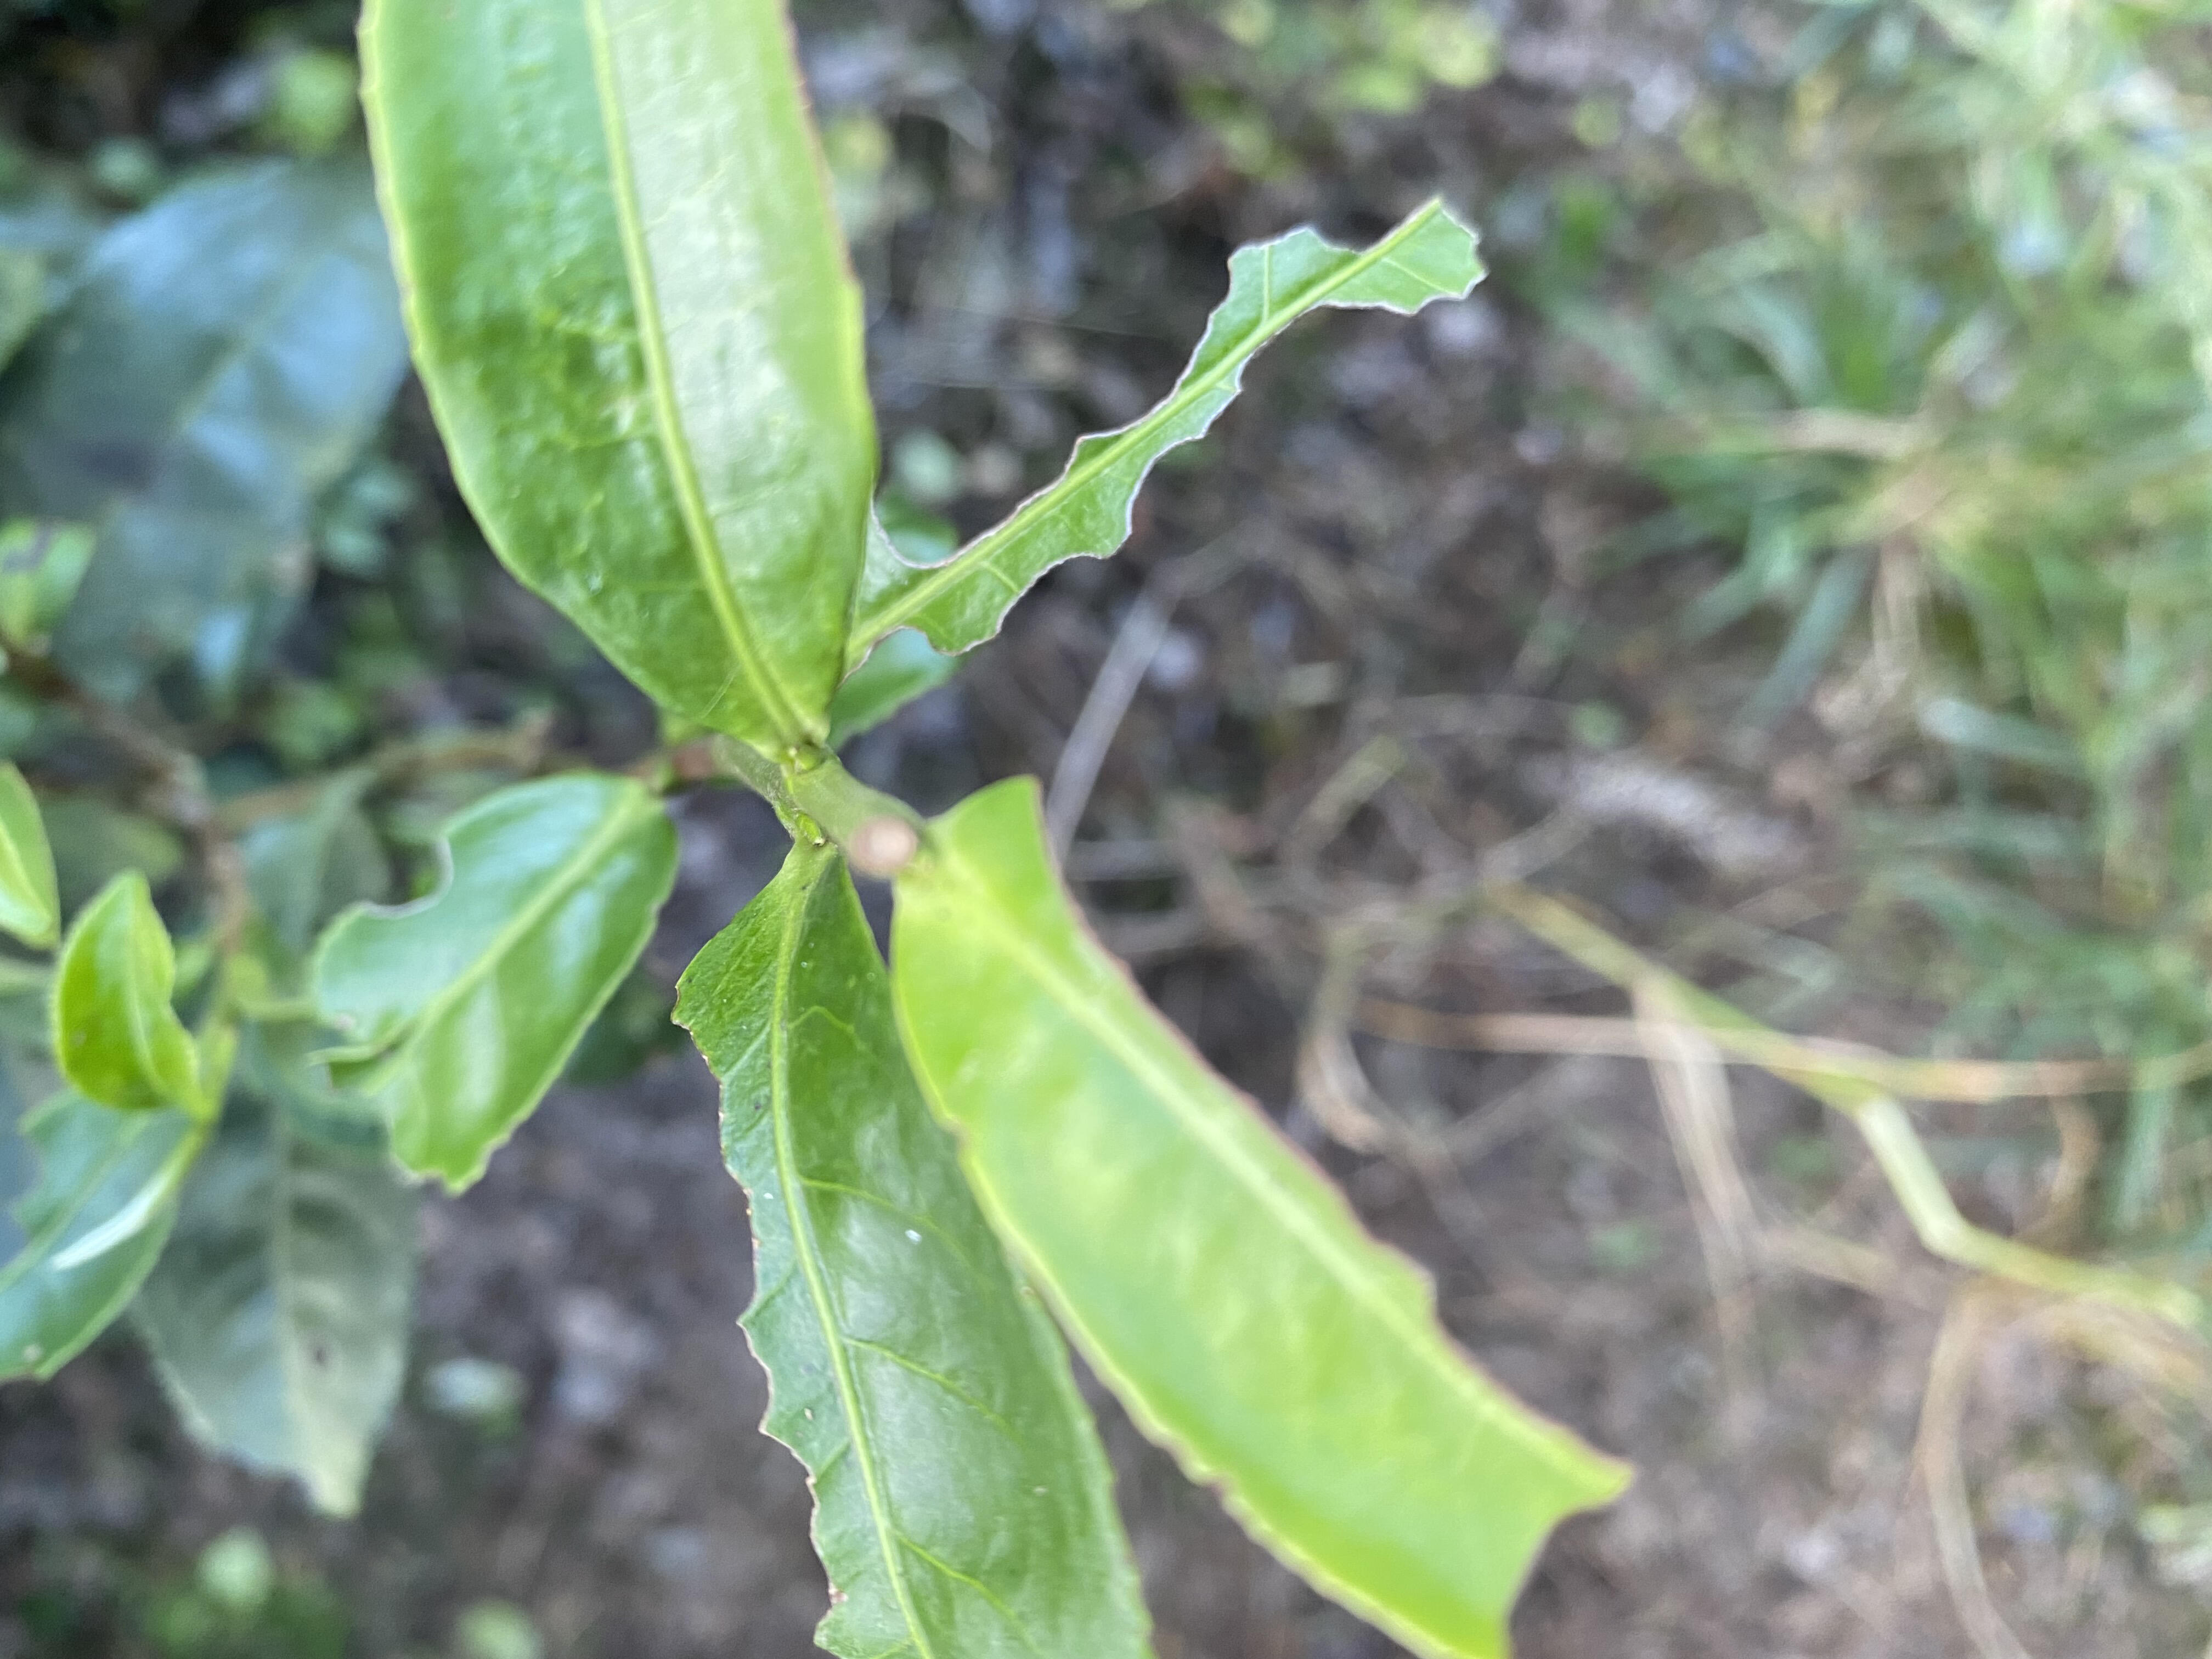chihuo_high: (887, 770, 1642, 1657), (669, 852, 1153, 1656), (848, 192, 1489, 683), (307, 765, 683, 1199)
healthy: (348, 2, 883, 762)
